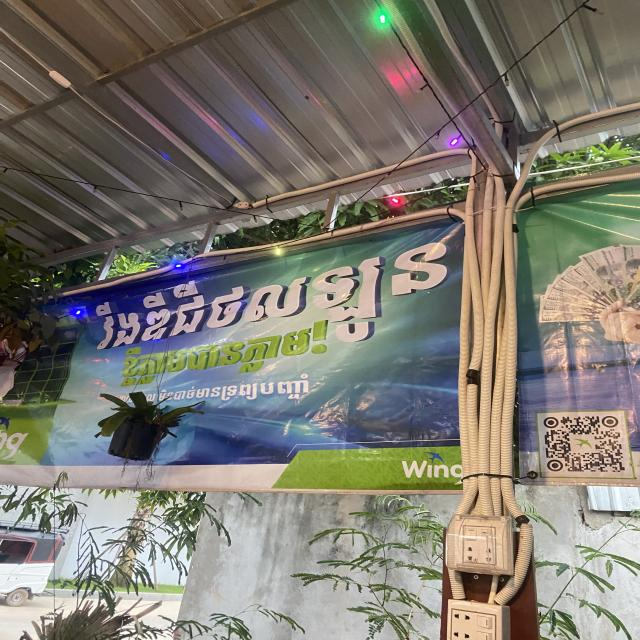Yolov11kh: (94, 235, 464, 355), (116, 314, 333, 388), (156, 371, 313, 403)
